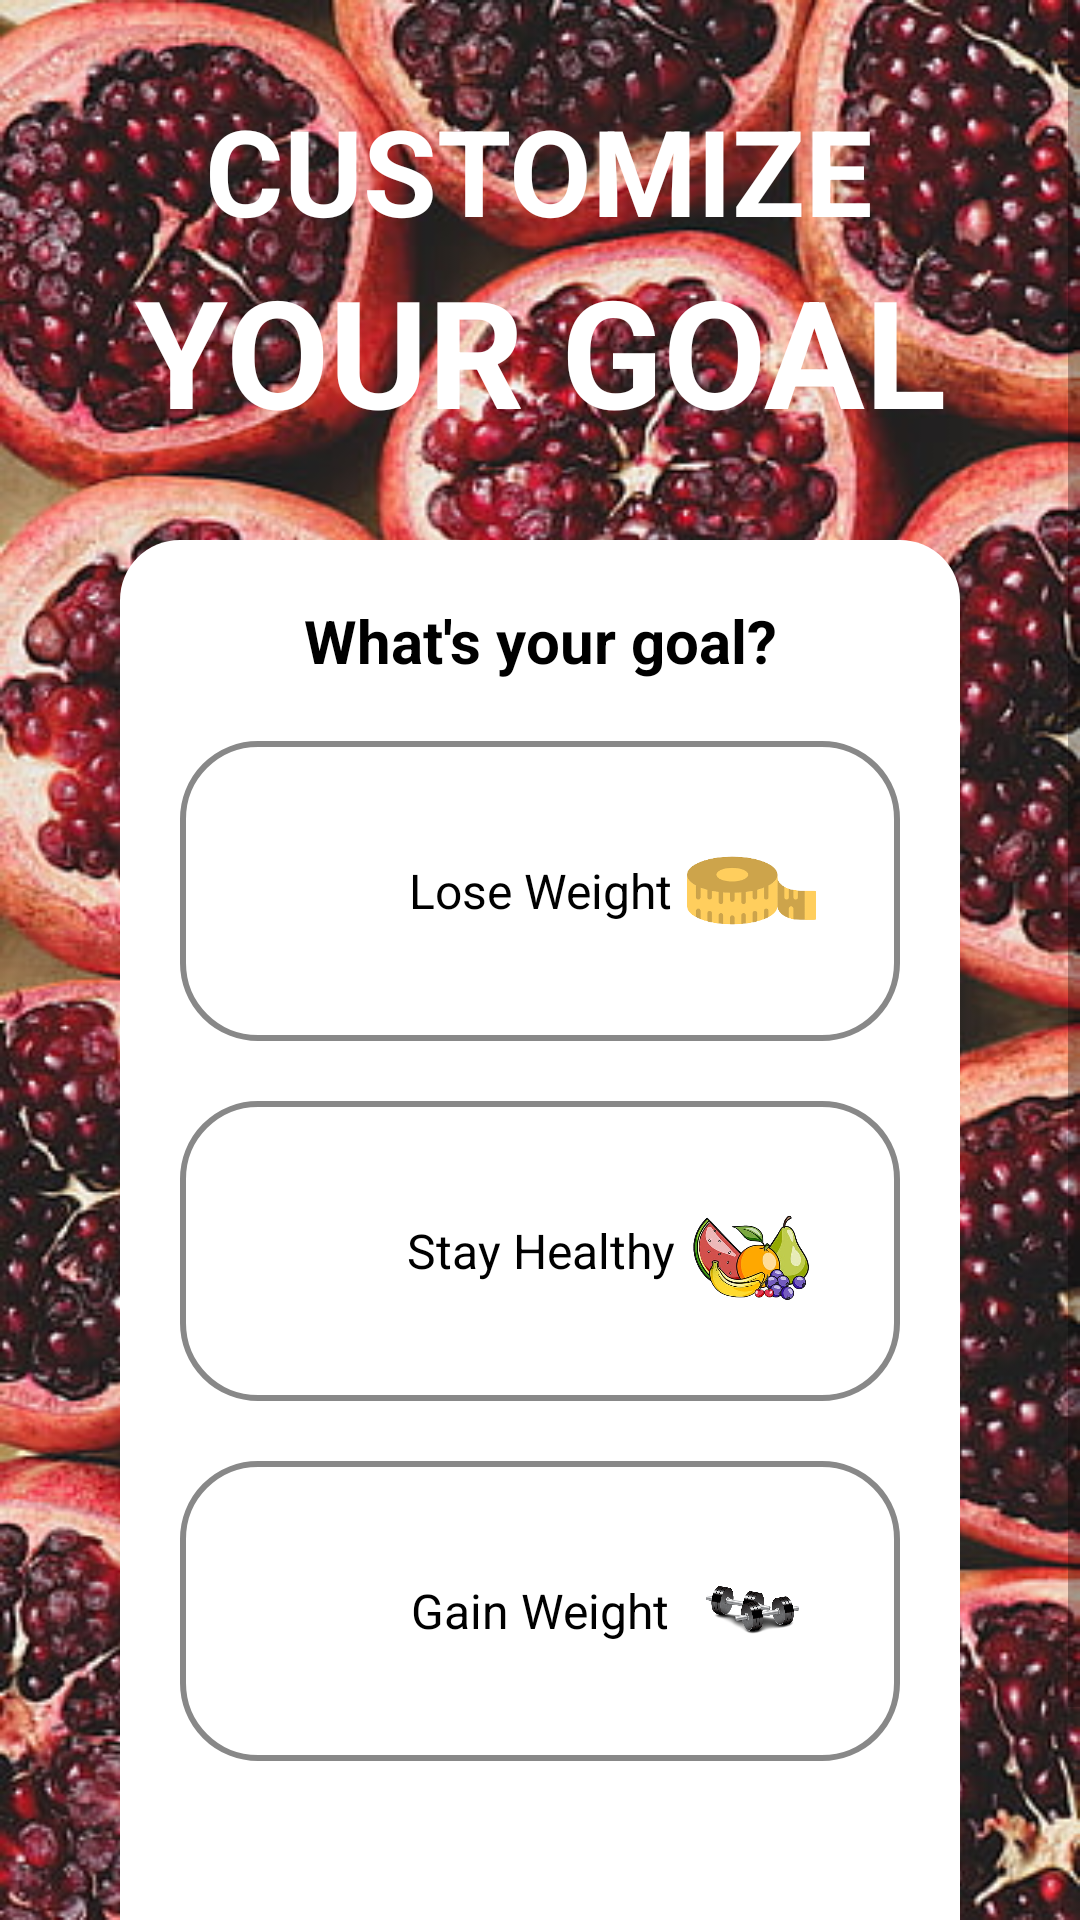

Icon bounding boxes for this 1080 x 1920 phone screenshot, format (x1, y1, x2, y2):
dumb: (706, 1586, 799, 1633)
fruits: (693, 1216, 809, 1300)
tape: (687, 856, 816, 925)
